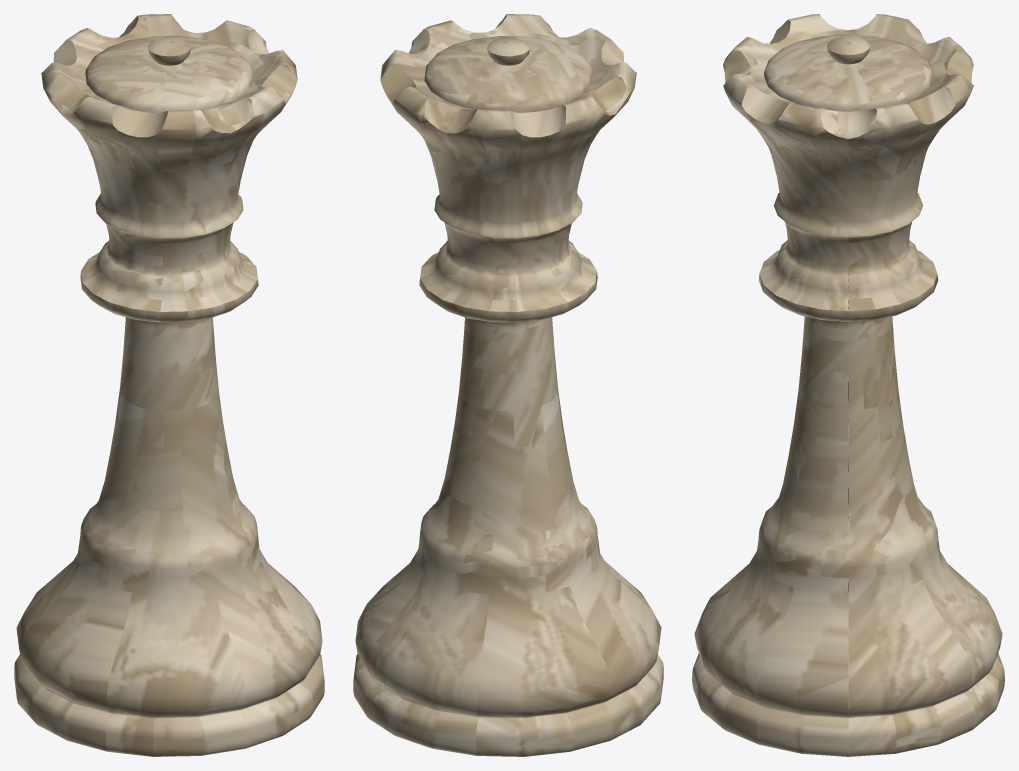
File: Queen.obj
3 renders of one model, left to right at view 1: azimuth 30°, elevation 25°; view 2: azimuth 150°, elevation 25°; view 3: azimuth 270°, elevation 25°, orthographic.
Parts seen in each view (by area): view 1: chess.011; view 2: chess.011; view 3: chess.011.
Boxes of the visible parts, x1,y1,x2,y2 form: chess.011: [14, 14, 324, 756]; chess.011: [353, 14, 663, 756]; chess.011: [692, 14, 1004, 756].
Bounding box in the file's own units: 0.8856 × 2.04 × 0.8856.
